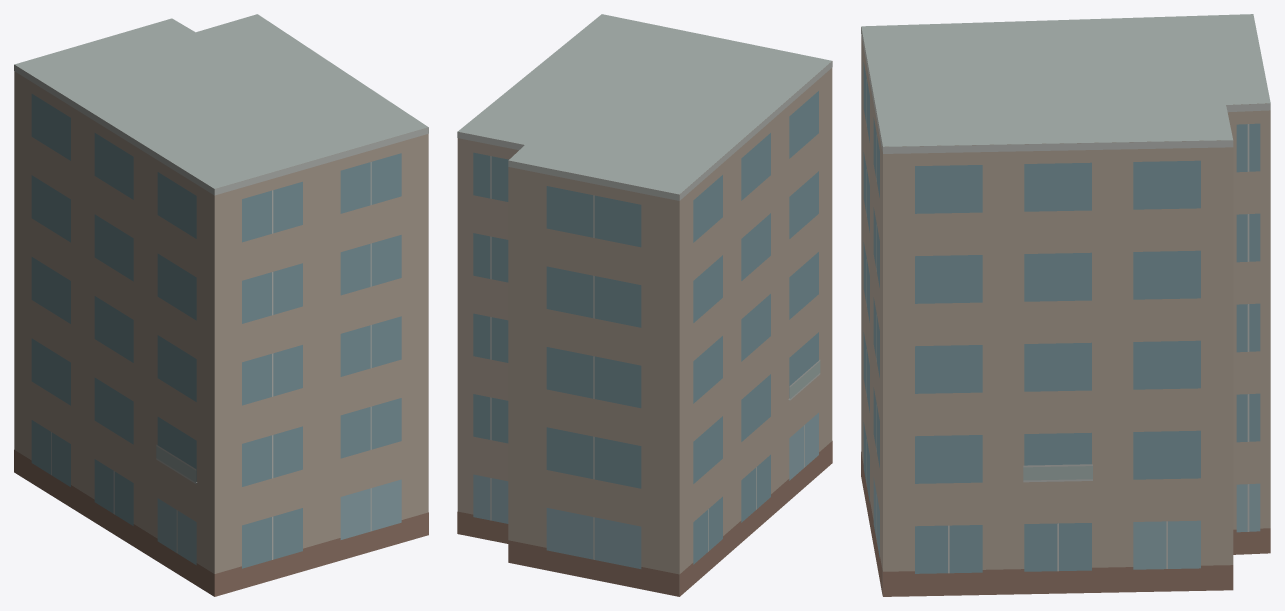
File: survey-upis-32982959.glb
3 views of the same model, side by side, from view 1: azimuth 30°, elevation 25°; view 2: azimuth 150°, elevation 25°; view 3: azimuth 270°, elevation 25° (orthographic). The views are drawn at different scales.
Visible parts, largest first — view 1: survey-upis-32982959.tmp; view 2: survey-upis-32982959.tmp; view 3: survey-upis-32982959.tmp.
Part boxes in pixels (x1,y1,x2,y2): survey-upis-32982959.tmp: (14, 14, 428, 596); survey-upis-32982959.tmp: (457, 14, 832, 596); survey-upis-32982959.tmp: (861, 14, 1270, 596).
Bounding box in the file's own units: 9.66 × 15.25 × 12.59.
